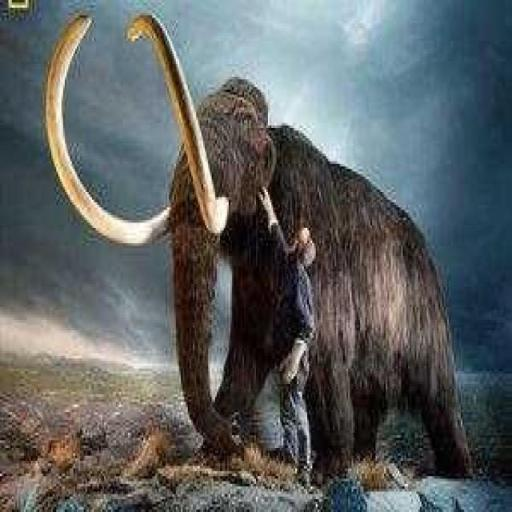Elephant: (42, 8, 473, 481)
